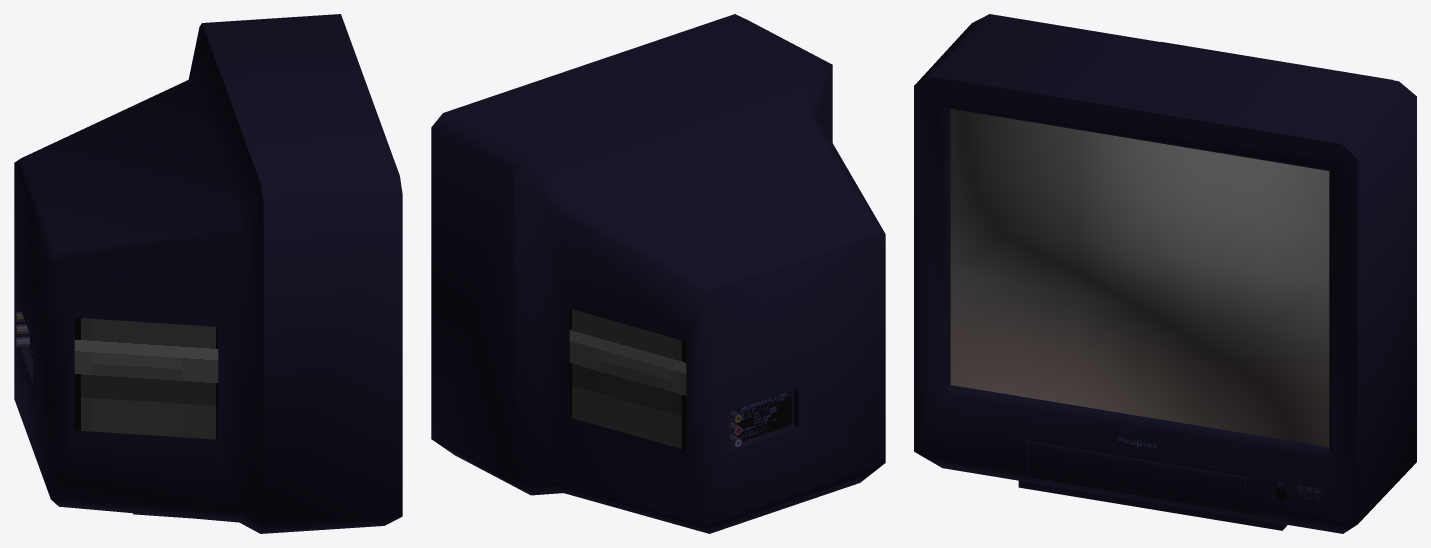
3 renders of one model, left to right at view 1: azimuth 30°, elevation 25°; view 2: azimuth 150°, elevation 25°; view 3: azimuth 270°, elevation 25°, orthographic. The views are drawn at different scales.
Parts seen in each view (by area): view 1: Joint_0_Object_0, Joint_0_Object_2; view 2: Joint_0_Object_0, Joint_0_Object_2; view 3: Joint_0_Object_0, Joint_0_Object_1.
Boxes of the visible parts, left/top/right/bottom form: Joint_0_Object_0: left=14, top=14, right=402, bottom=533; Joint_0_Object_2: left=74, top=317, right=218, bottom=439; Joint_0_Object_0: left=431, top=14, right=885, bottom=533; Joint_0_Object_2: left=569, top=308, right=686, bottom=450; Joint_0_Object_0: left=914, top=14, right=1416, bottom=533; Joint_0_Object_1: left=950, top=109, right=1329, bottom=446.
Bounding box in the file's own units: 684 × 630 × 693.
Materials: 3 (2 with a texture image).
